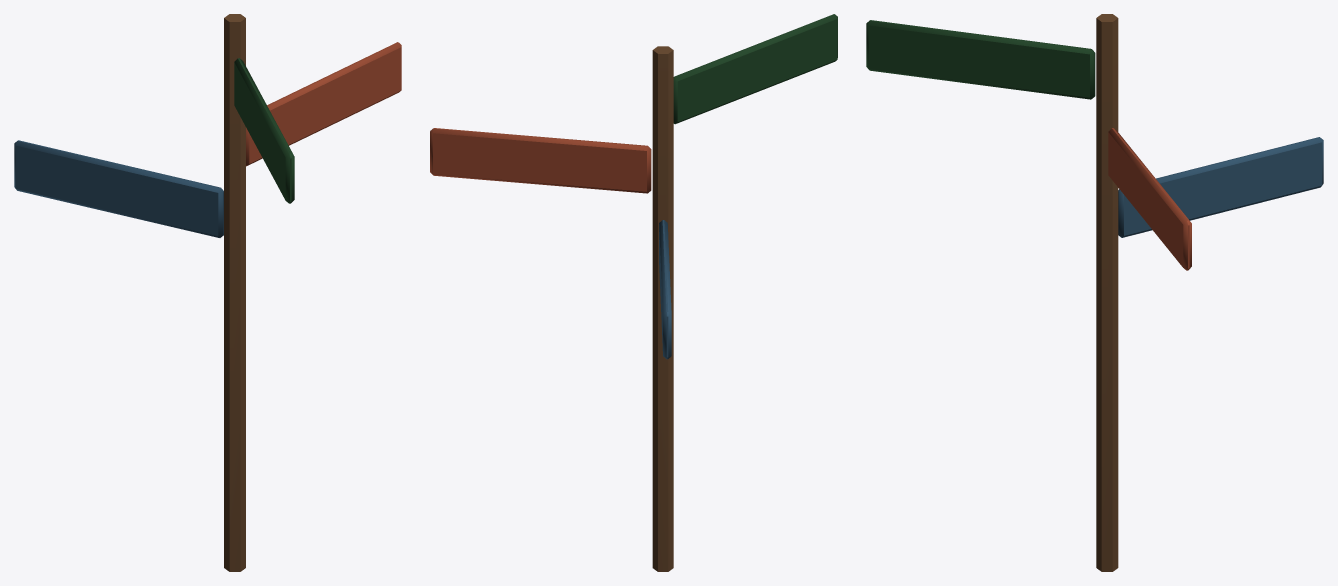
File: signpost.glb
3 views of the same model, side by side, from view 1: azimuth 30°, elevation 25°; view 2: azimuth 150°, elevation 25°; view 3: azimuth 270°, elevation 25° (orthographic). The views are drawn at different scales.
Parts seen in each view (by area): view 1: signpost_mesh; view 2: signpost_mesh; view 3: signpost_mesh.
Part boxes in pixels (x1=…): signpost_mesh: x1=14, y1=14, x2=401, y2=571; signpost_mesh: x1=430, y1=14, x2=837, y2=571; signpost_mesh: x1=866, y1=14, x2=1323, y2=571.
Bounding box in the file's own units: 2.02 × 3.3 × 2.49.
